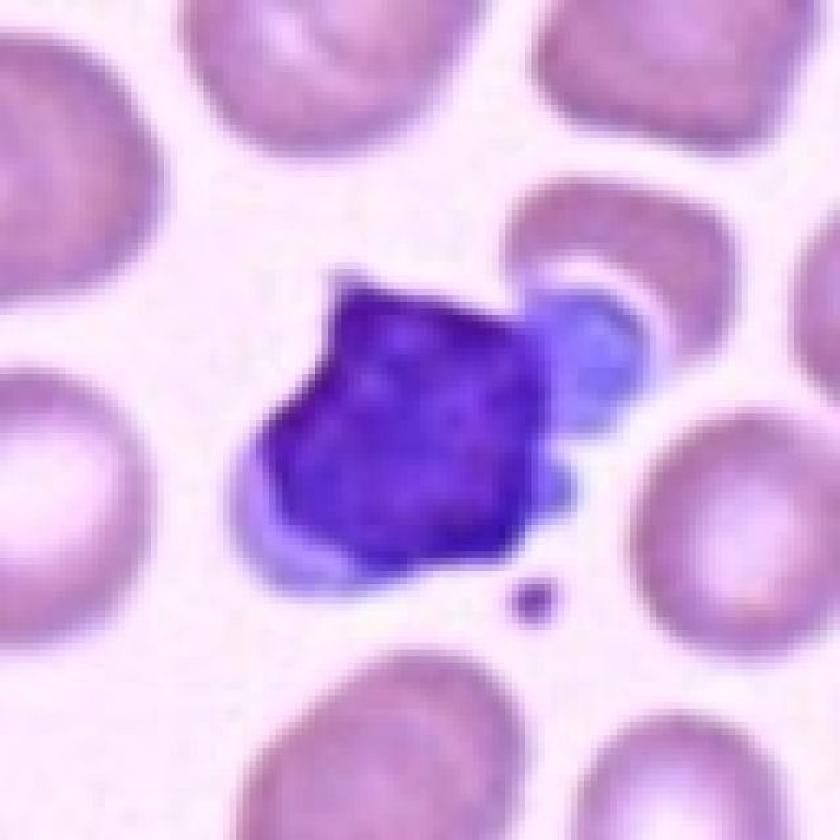lymphocyte: (206, 249, 621, 630)
